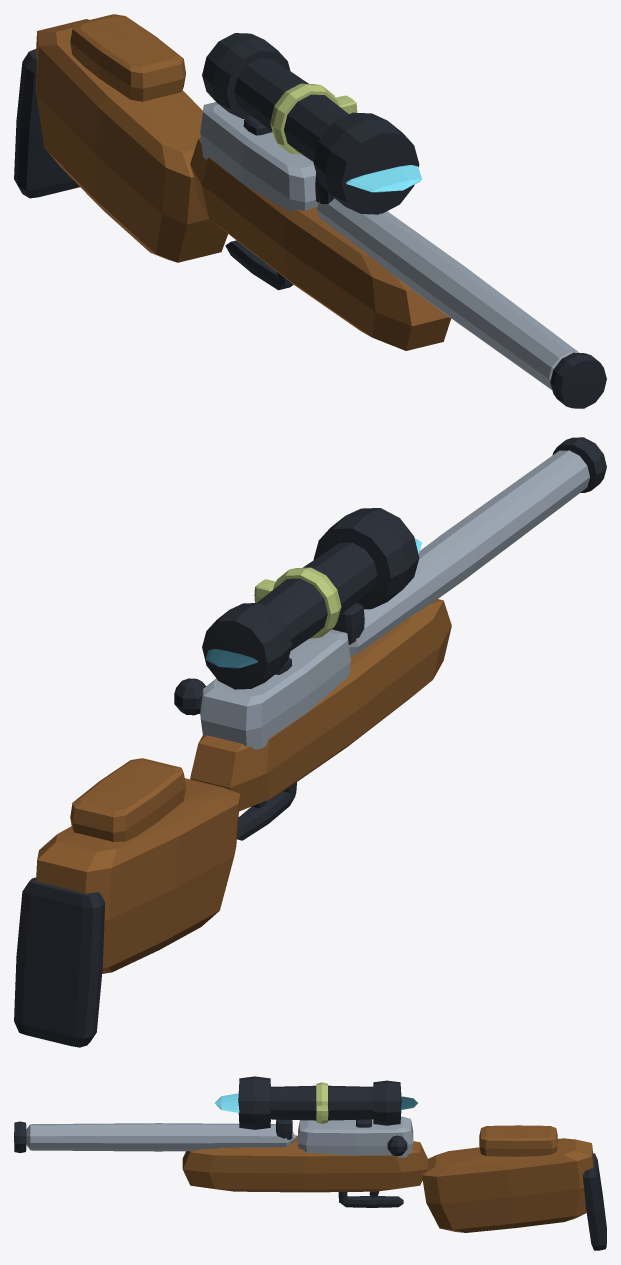
File: g-rifle-1.glb
3 renders of one model, top to bottom at view 1: azimuth 30°, elevation 25°; view 2: azimuth 150°, elevation 25°; view 3: azimuth 270°, elevation 25°, orthographic. The views are drawn at different scales.
Parts seen in each view (by area): view 1: gun; view 2: gun; view 3: gun.
Part boxes in pixels (x1,y1,x2,y2): gun: [14, 14, 606, 408]; gun: [14, 437, 606, 1047]; gun: [14, 1076, 606, 1250].
Size of the model in its own units: 0.1578 by 0.4332 by 1.41.
